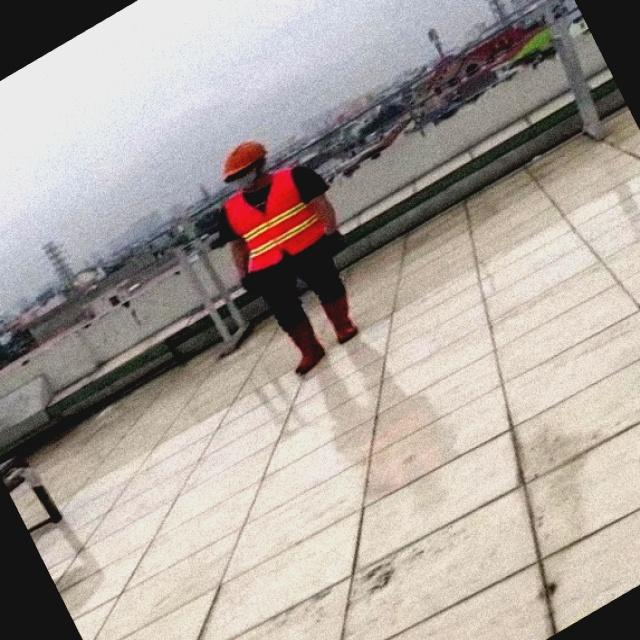Capacete: (223, 141, 266, 180)
Colete: (224, 168, 324, 271)
Pessoa: (217, 141, 357, 374)
